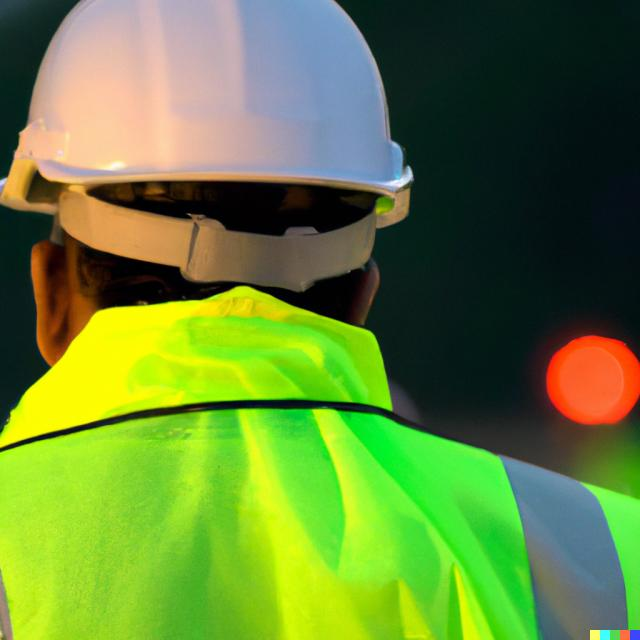Reflective-Jacket: (0, 289, 615, 637)
Safety-Helmet: (9, 6, 418, 199)
